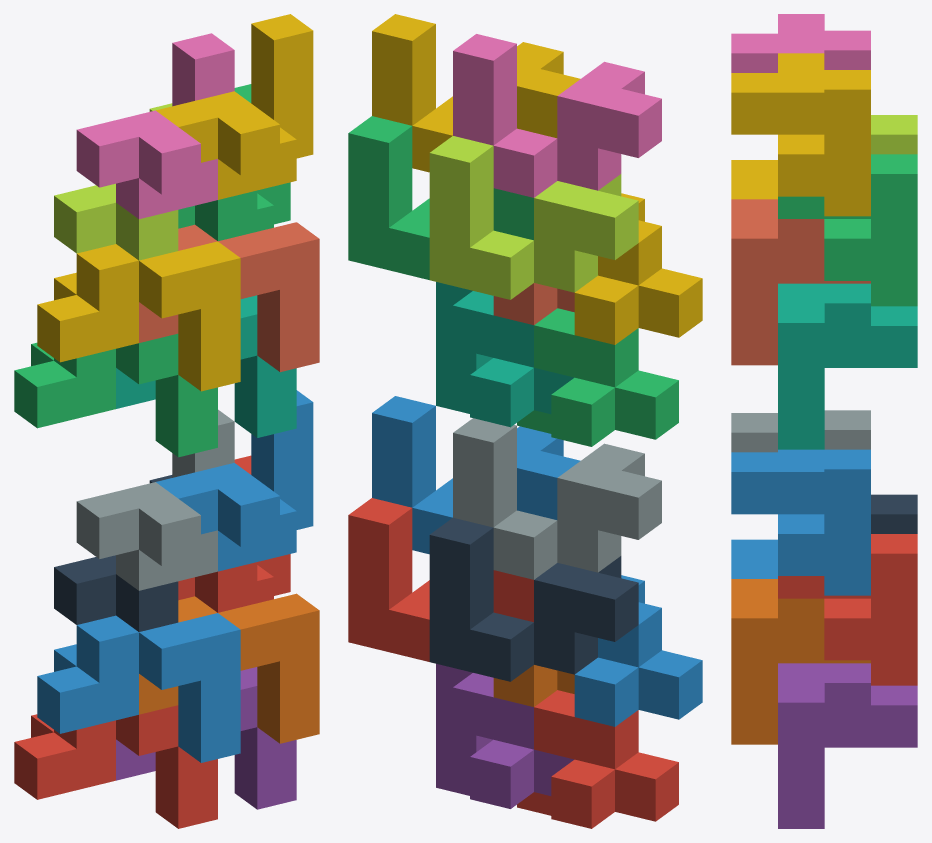
The model's file is tiling.obj.
The picture shows the model from 3 angles, left to right: view 1: azimuth 30°, elevation 25°; view 2: azimuth 150°, elevation 25°; view 3: azimuth 270°, elevation 25°; orthographic projection. The views are drawn at different scales.
Parts seen in each view (by area): view 1: copy_1_domain_2, copy_1_domain_4, copy_2_domain_8, copy_2_domain_4, copy_2_domain_6, copy_1_domain_1, copy_1_domain_3, copy_2_domain_2, copy_1_domain_6, copy_1_domain_8, copy_2_domain_3, copy_2_domain_1 (+4 smaller); view 2: copy_2_domain_1, copy_2_domain_3, copy_2_domain_4, copy_2_domain_2, copy_1_domain_1, copy_1_domain_3, copy_2_domain_5, copy_2_domain_7, copy_1_domain_5, copy_1_domain_7, copy_2_domain_8, copy_2_domain_6 (+4 smaller); view 3: copy_2_domain_8, copy_2_domain_6, copy_1_domain_5, copy_1_domain_7, copy_1_domain_6, copy_1_domain_8, copy_2_domain_5, copy_2_domain_7, copy_2_domain_4, copy_2_domain_2, copy_1_domain_2, copy_1_domain_4 (+2 smaller).
Boxes of the visible parts, x1,y1,x2,y2 form: copy_1_domain_2: [37, 613, 240, 762]; copy_1_domain_4: [37, 241, 240, 391]; copy_2_domain_8: [156, 14, 313, 199]; copy_2_domain_4: [76, 33, 234, 219]; copy_2_domain_6: [156, 390, 313, 571]; copy_1_domain_1: [14, 705, 217, 828]; copy_1_domain_3: [14, 333, 217, 457]; copy_2_domain_2: [76, 409, 234, 590]; copy_1_domain_6: [139, 593, 319, 743]; copy_1_domain_8: [139, 222, 319, 372]; copy_2_domain_3: [54, 103, 178, 260]; copy_2_domain_1: [54, 475, 178, 631]; copy_2_domain_1: [429, 517, 638, 681]; copy_2_domain_3: [429, 136, 638, 299]; copy_2_domain_4: [453, 34, 661, 197]; copy_2_domain_2: [453, 418, 661, 579]; copy_1_domain_1: [517, 690, 678, 828]; copy_1_domain_3: [517, 308, 678, 446]; copy_2_domain_5: [348, 498, 533, 661]; copy_2_domain_7: [348, 116, 533, 279]; copy_1_domain_5: [436, 663, 574, 808]; copy_1_domain_7: [436, 282, 573, 427]; copy_2_domain_8: [372, 14, 580, 172]; copy_2_domain_6: [372, 396, 580, 554]; copy_2_domain_8: [731, 53, 870, 216]; copy_2_domain_6: [731, 449, 870, 595]; copy_1_domain_5: [778, 663, 917, 828]; copy_1_domain_7: [778, 283, 917, 449]; copy_1_domain_6: [731, 579, 870, 744]; copy_1_domain_8: [731, 199, 870, 365]; copy_2_domain_5: [778, 534, 917, 679]; copy_2_domain_7: [778, 154, 917, 300]; copy_2_domain_4: [731, 14, 870, 72]; copy_2_domain_2: [731, 410, 870, 452]; copy_1_domain_2: [731, 539, 777, 578]; copy_1_domain_4: [731, 160, 777, 199].
Bounding box in the file's own units: 7 × 18 × 4.
